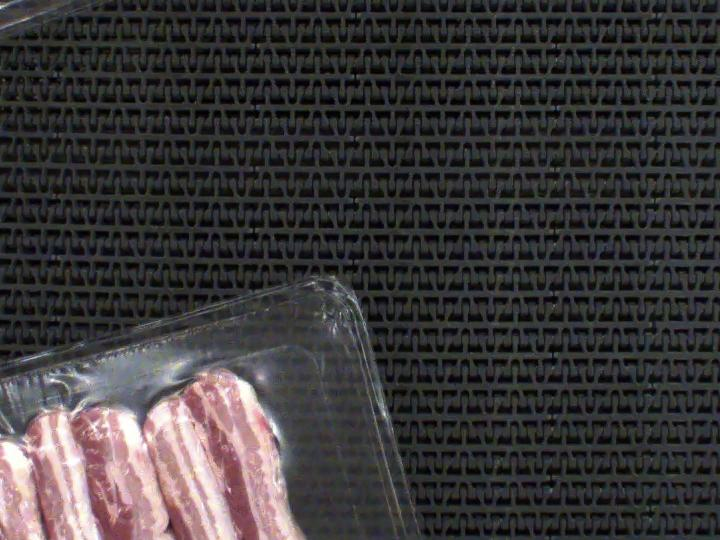unsealed: (0, 353, 370, 540)
